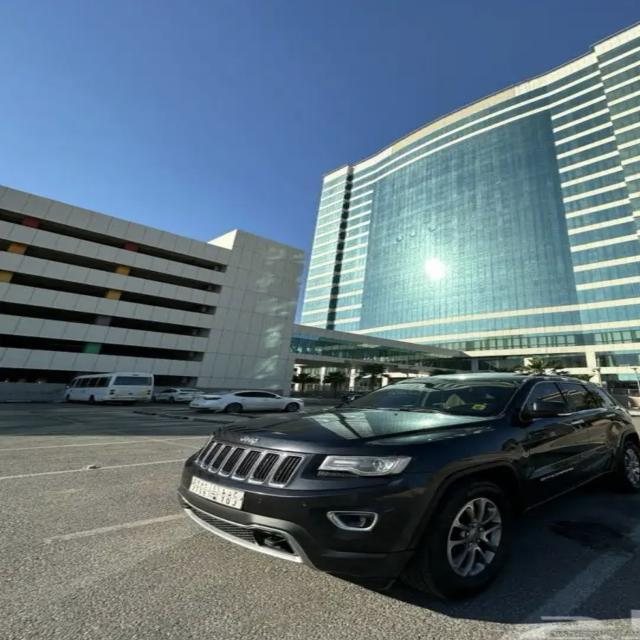license_plate: (186, 476, 246, 508)
